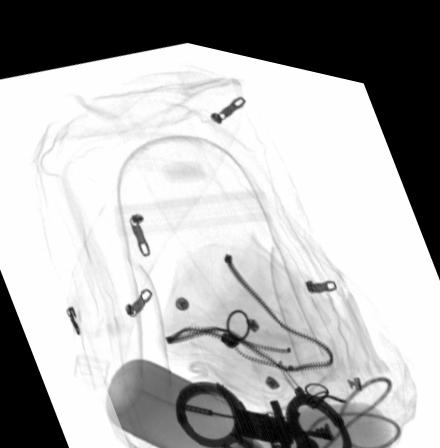Gun: (173, 386, 334, 426)
HandCuffs: (175, 367, 354, 448)
